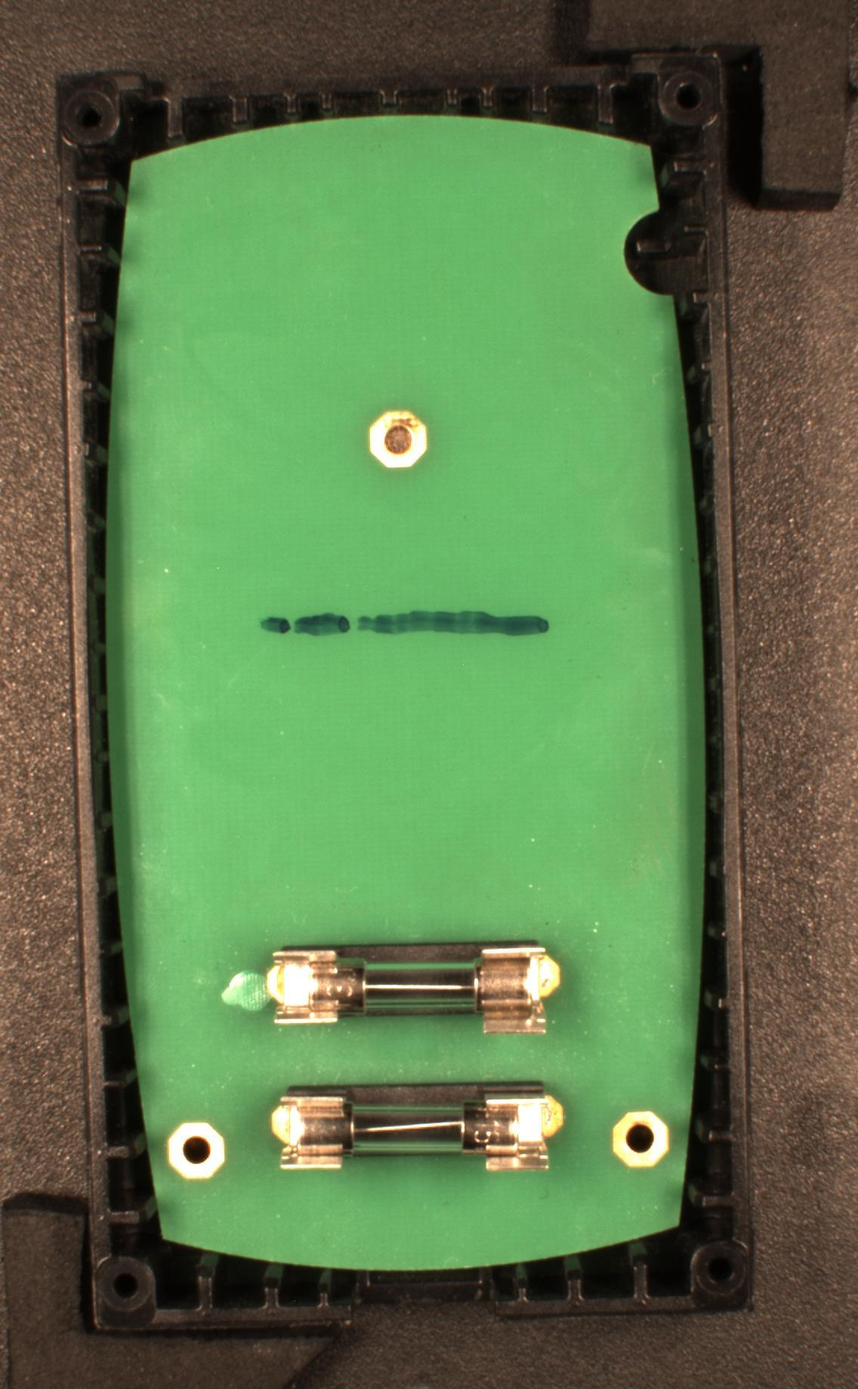Linijsko Ostecene: (260, 610, 550, 642)
